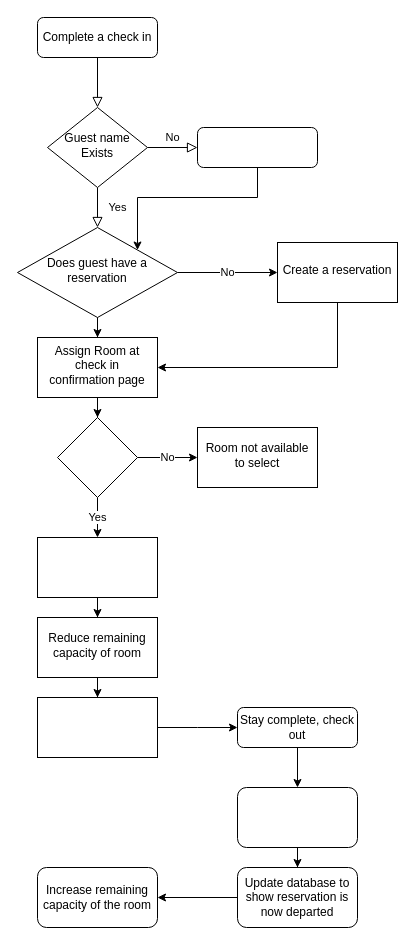
The diagram is 415 pixels wide and 945 high, and some of its shapes have lost their labels. The centre of each missing label's shape, as x and y in pixels:
Assign reservation to room: (x=97, y=567)
Create new guest name: (x=257, y=147)
Increase guest stay count by 1: (x=297, y=817)
Room available: (x=97, y=457)
Update database to show reservation is now checked in: (x=97, y=727)
